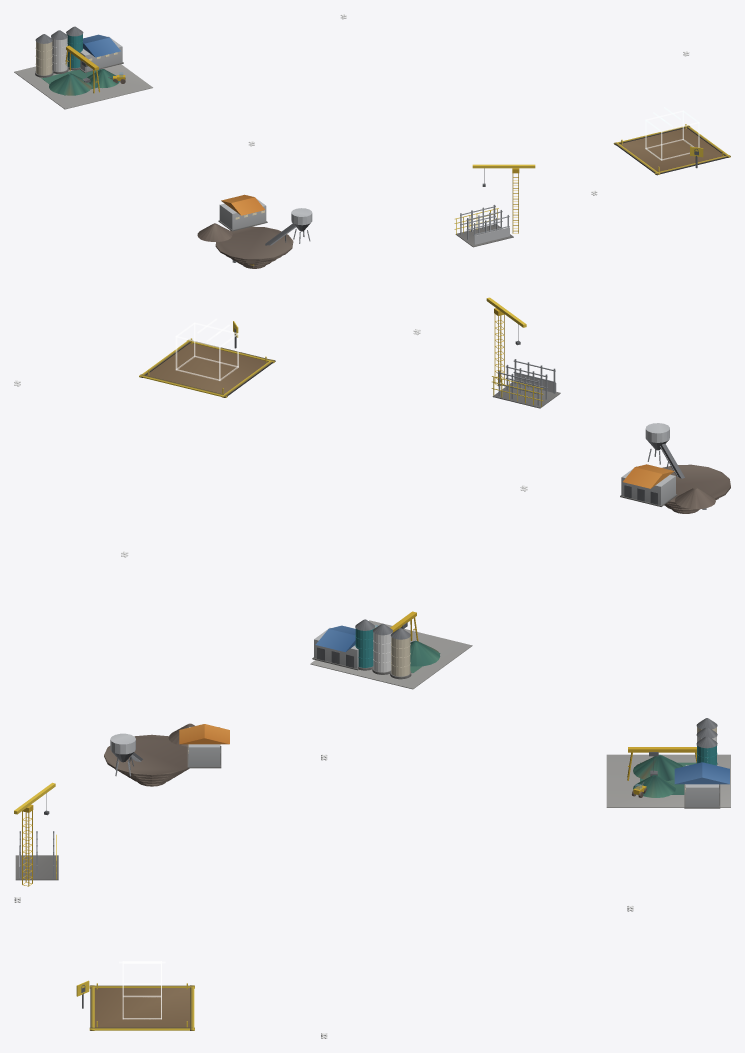
File: Sites_P2.fbx
3 views of the same model, one above another, from view 1: azimuth 30°, elevation 25°; view 2: azimuth 150°, elevation 25°; view 3: azimuth 270°, elevation 25° (orthographic). The views are drawn at different scales.
Visible parts, largest first — view 1: Site.plant.Pad, Site.Store.Yard, Site.Quarry.Benches, Site.Construction, Site.Quarry.Shed, Site.Store.Shed, Site.Store.Silo0, Site.Store.Pile0, Site.Crane, Site.Store.Silo1, Site.plant.Ghost, Site.Store.Silo2 (+3 smaller); view 2: Site.plant.Pad, Site.Store.Yard, Site.Construction, Site.Quarry.Shed, Site.Quarry.Benches, Site.Store.Shed, Site.Store.Silo0, Site.Store.Silo1, Site.plant.Ghost, Site.Crane, Site.Store.Silo2, Site.Quarry.Heap; view 3: Site.plant.Pad, Site.Store.Yard, Site.Quarry.Benches, Site.Store.Shed, Site.Quarry.Shed, Site.Construction, Site.Crane, Site.Store.Pile0, Site.Quarry.Hopper, Site.Store.Pile1, Site.Store.Gantry, Site.plant.Ghost.
Part boxes in pixels (bbox=[...]): Site.plant.Pad: bbox=[613, 124, 730, 175]; Site.Store.Yard: bbox=[14, 64, 152, 109]; Site.Quarry.Benches: bbox=[215, 226, 293, 268]; Site.Construction: bbox=[454, 204, 513, 247]; Site.Quarry.Shed: bbox=[218, 194, 267, 231]; Site.Store.Shed: bbox=[80, 34, 123, 72]; Site.Store.Silo0: bbox=[35, 34, 53, 77]; Site.Store.Pile0: bbox=[49, 73, 91, 95]; Site.Crane: bbox=[472, 164, 535, 233]; Site.Store.Silo1: bbox=[51, 30, 68, 73]; Site.plant.Ghost: bbox=[645, 107, 699, 160]; Site.Store.Silo2: bbox=[66, 26, 83, 70]; Site.plant.Pad: bbox=[139, 338, 275, 397]; Site.Store.Yard: bbox=[310, 620, 472, 689]; Site.Construction: bbox=[491, 359, 560, 408]; Site.Quarry.Shed: bbox=[620, 464, 677, 506]; Site.Quarry.Benches: bbox=[661, 464, 730, 513]; Site.Store.Shed: bbox=[312, 625, 358, 670]; Site.Store.Silo0: bbox=[390, 628, 411, 679]; Site.Store.Silo1: bbox=[372, 623, 392, 674]; Site.plant.Ghost: bbox=[175, 318, 238, 380]; Site.Crane: bbox=[486, 297, 526, 386]; Site.Store.Silo2: bbox=[355, 619, 374, 670]; Site.Quarry.Heap: bbox=[675, 487, 715, 509]; Site.plant.Pad: bbox=[89, 983, 194, 1030]; Site.Store.Yard: bbox=[606, 754, 730, 807]; Site.Quarry.Benches: bbox=[104, 734, 189, 786]; Site.Store.Shed: bbox=[674, 762, 729, 808]; Site.Quarry.Shed: bbox=[179, 724, 229, 768]; Site.Construction: bbox=[15, 831, 58, 880]; Site.Crane: bbox=[14, 782, 55, 886]; Site.Store.Pile0: bbox=[633, 754, 682, 780]; Site.Quarry.Hopper: bbox=[110, 733, 135, 776]; Site.Store.Pile1: bbox=[633, 775, 675, 797]; Site.Store.Gantry: bbox=[627, 747, 696, 780]; Site.plant.Ghost: bbox=[119, 961, 165, 1019].
Bounding box in the file's own units: 32048 × 4751 × 29963.
